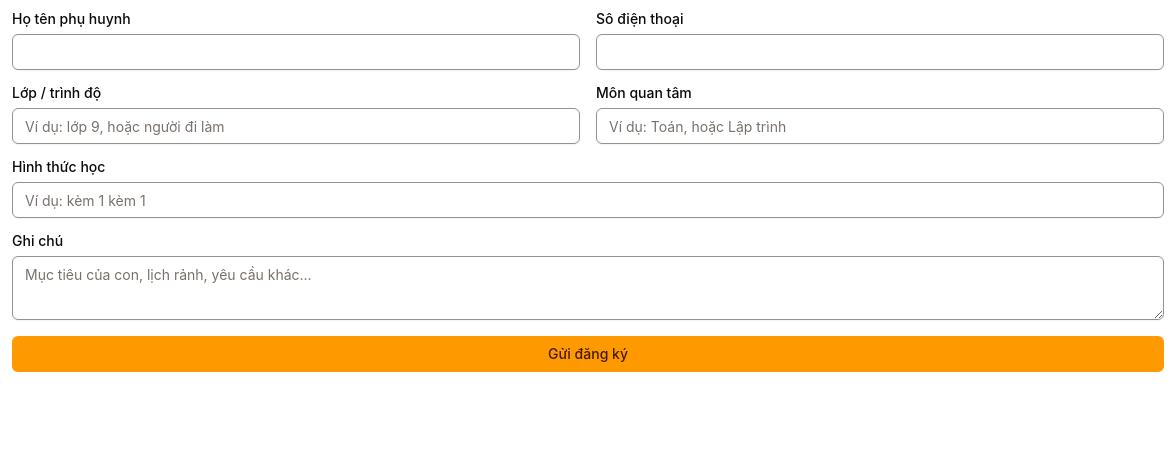
Test: ConsultationForm › falls back to the generic error message for an unrecognized identifier
Step 1. Type "Nguyễn Văn A" into the field labelled "Họ tên phụ huynh" → (296, 52), box 12,34 -> 580,70
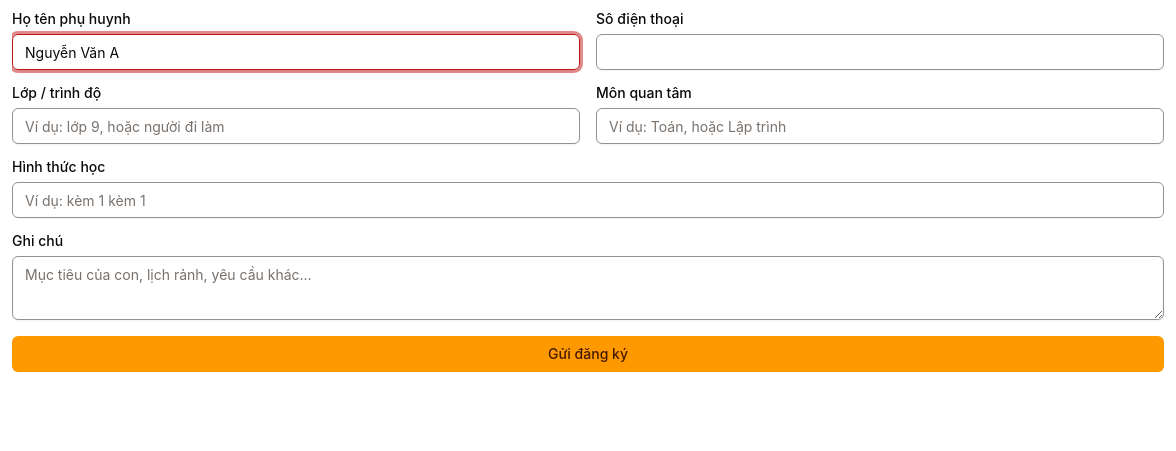
Step 2. Type "0912345678" into the field labelled "Số điện thoại" → (880, 52), box 596,34 -> 1164,70
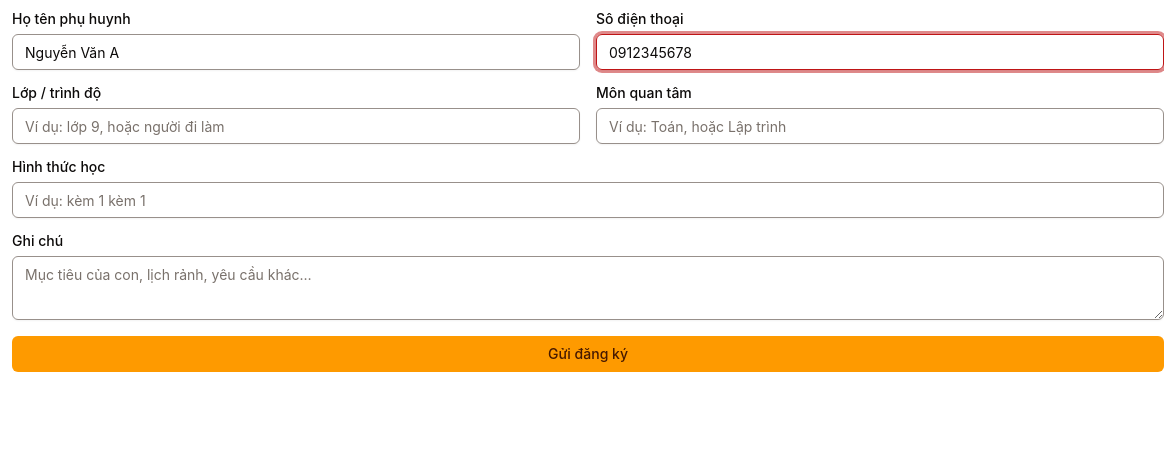
Step 3. Type "9" into the field labelled "Lớp / trình độ" → (296, 126), box 12,108 -> 580,144
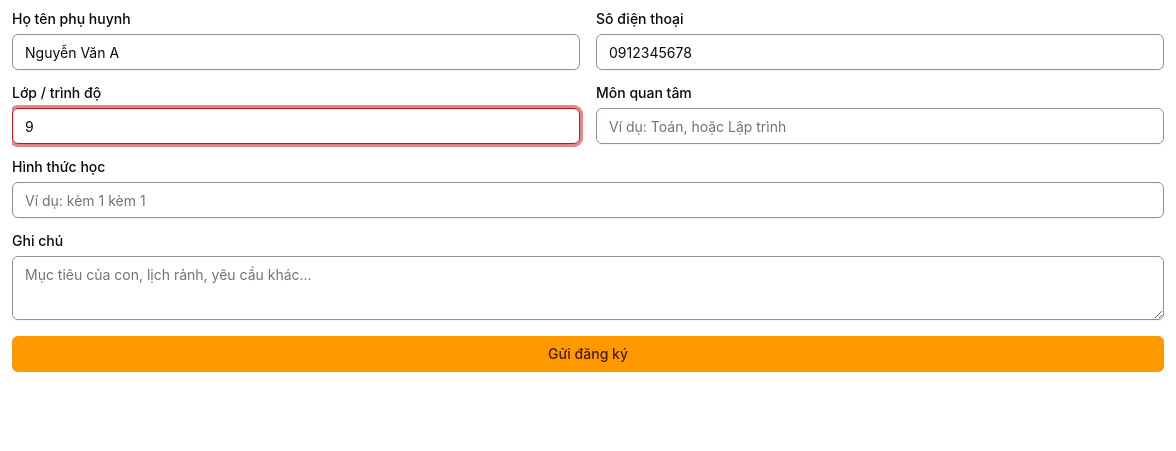
Step 4. Type "Toán" into the field labelled "Môn quan tâm" → (880, 126), box 596,108 -> 1164,144
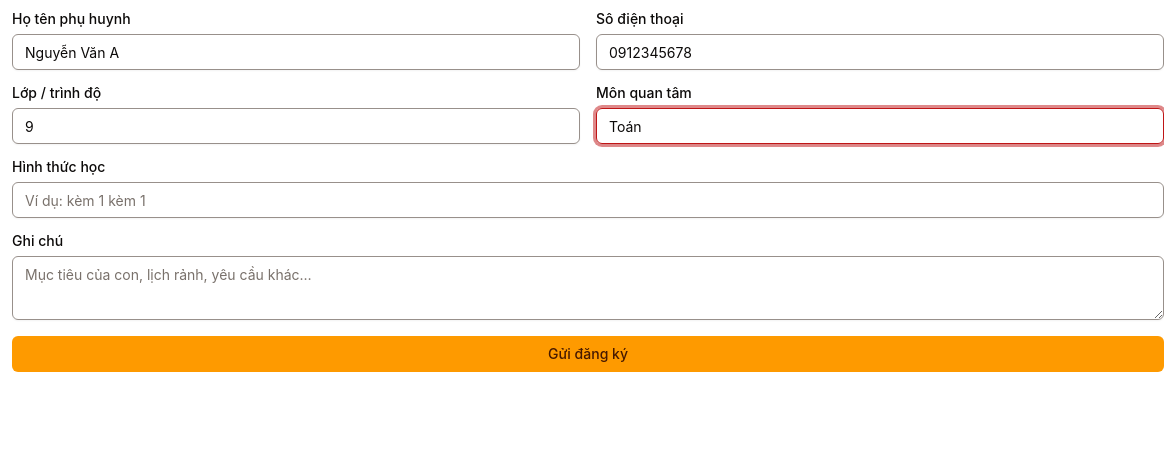
Step 5. Type "1 kèm 1" into the field labelled "Hình thức học" → (588, 200), box 12,182 -> 1164,218
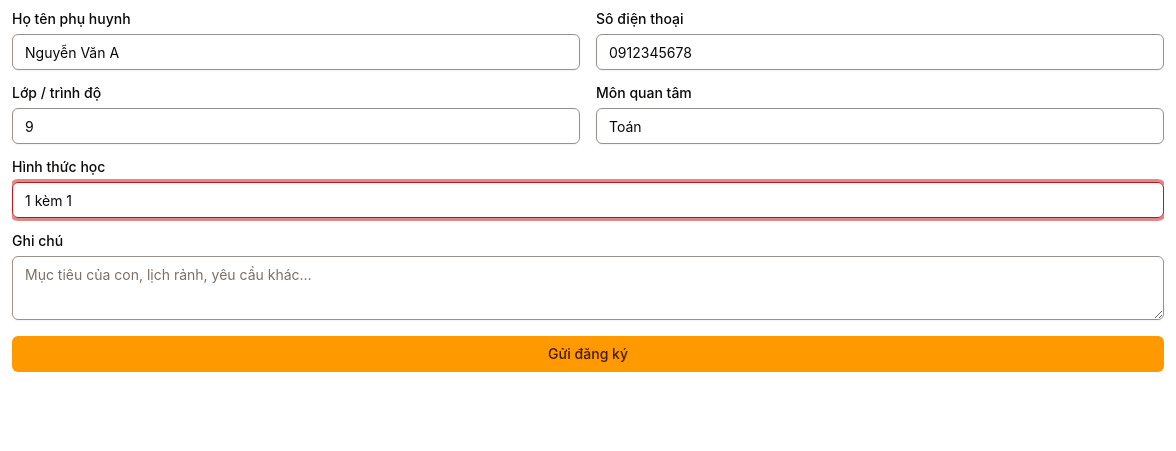
Step 6. Click the button "Gửi đăng ký" → (588, 354), box 12,336 -> 1164,372
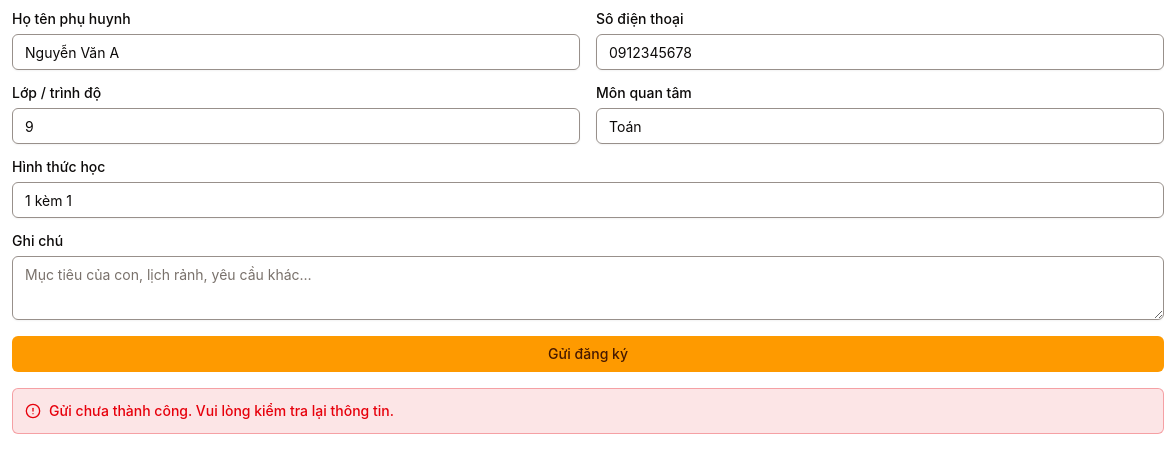
Now the message shows "Gửi chưa thành công", box 49,402 -> 394,419
